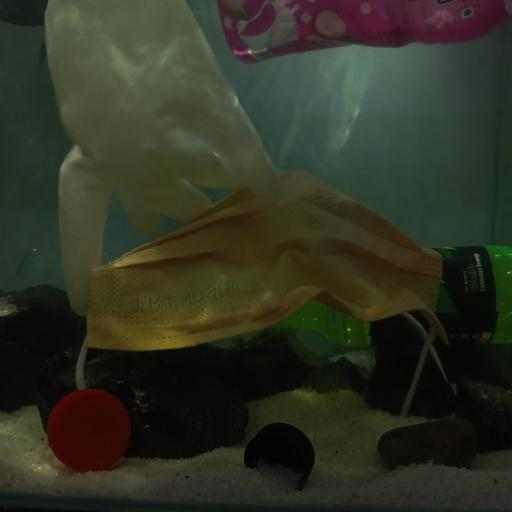bottle_cap: (47, 388, 130, 468), (243, 420, 315, 488)
glove: (44, 2, 284, 324)
net: (77, 170, 451, 406)
plastic_bottle: (288, 244, 512, 348), (209, 0, 512, 67)
